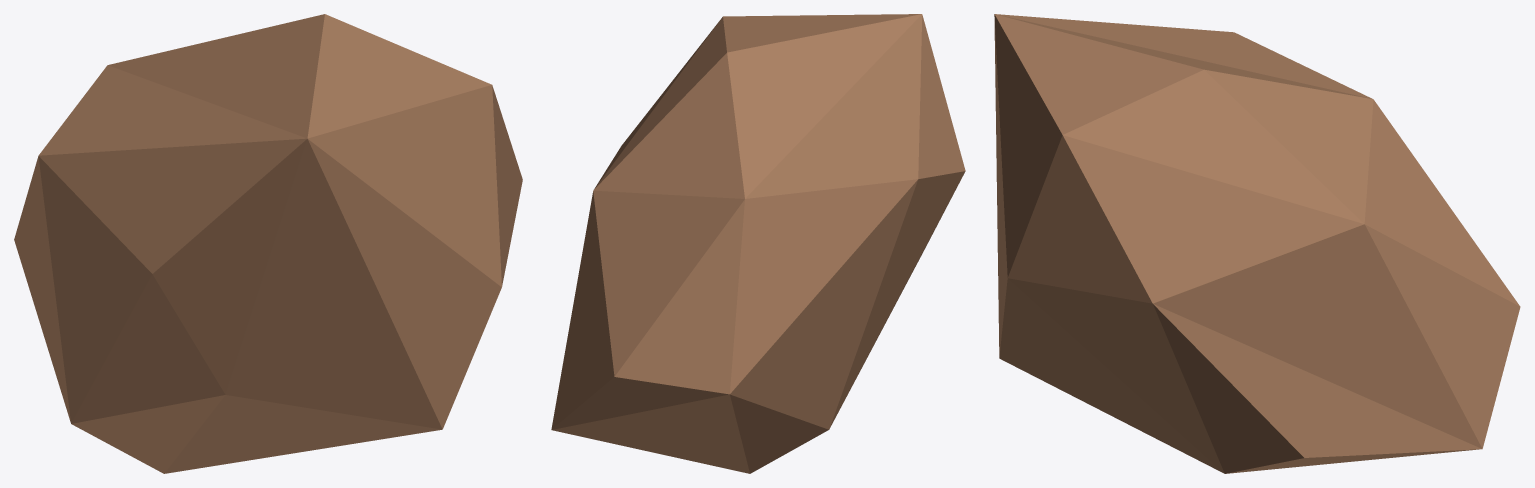
File: Rock_06_Small.fbx
3 renders of one model, left to right at view 1: azimuth 30°, elevation 25°; view 2: azimuth 150°, elevation 25°; view 3: azimuth 270°, elevation 25°, orthographic. The views are drawn at different scales.
Parts seen in each view (by area): view 1: Rock_06_Small; view 2: Rock_06_Small; view 3: Rock_06_Small.
Boxes of the visible parts, <box> form: Rock_06_Small: <box>14,14,522,473</box>; Rock_06_Small: <box>551,14,965,473</box>; Rock_06_Small: <box>994,14,1520,473</box>.
Bounding box in the file's own units: 1.13 × 1.2 × 1.35.
